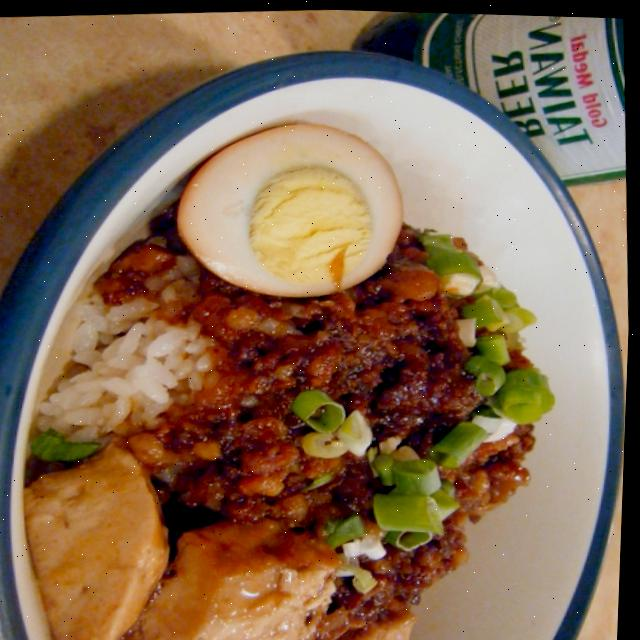猪肉菜式: (0, 57, 627, 640)
